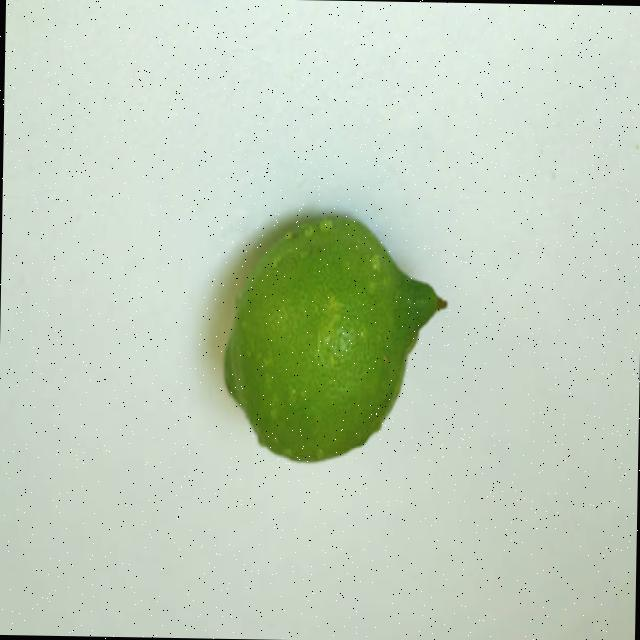Unripe: (220, 216, 442, 469)
